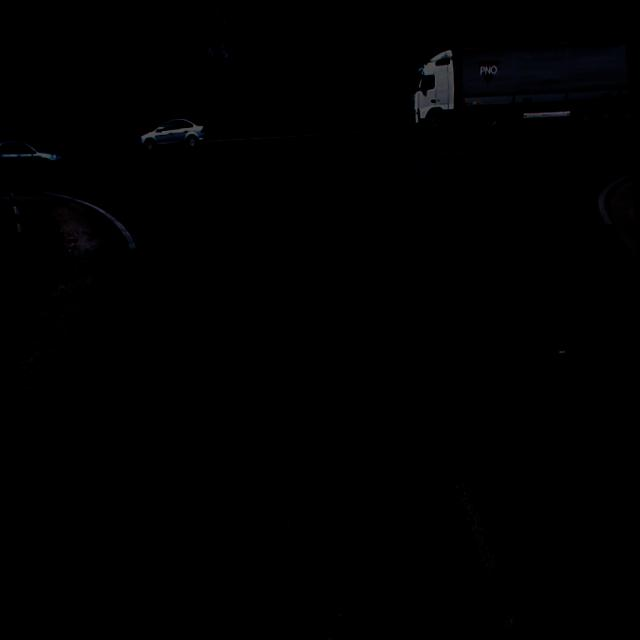road: (0, 118, 640, 640)
